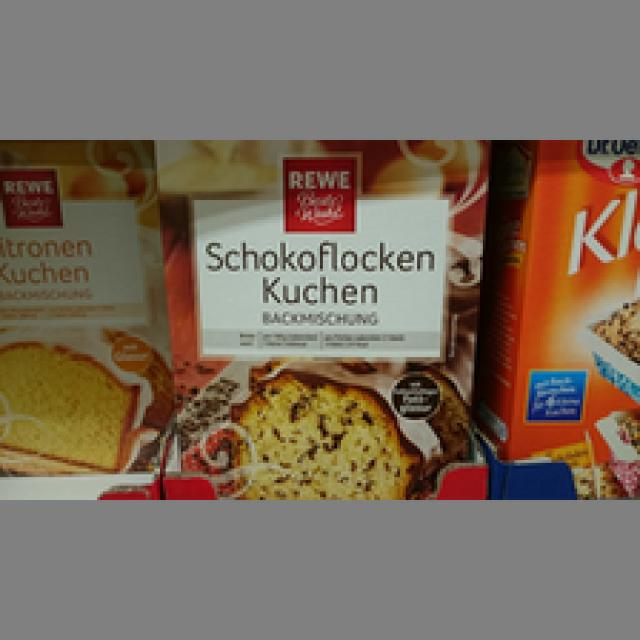groceries: (148, 132, 488, 497), (0, 145, 151, 480), (503, 137, 637, 466)
